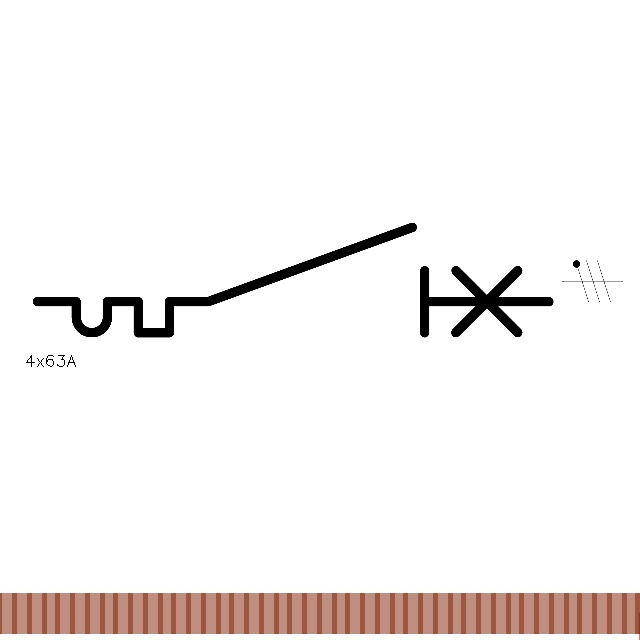interruptor_termomagnetico: (24, 214, 562, 346)
